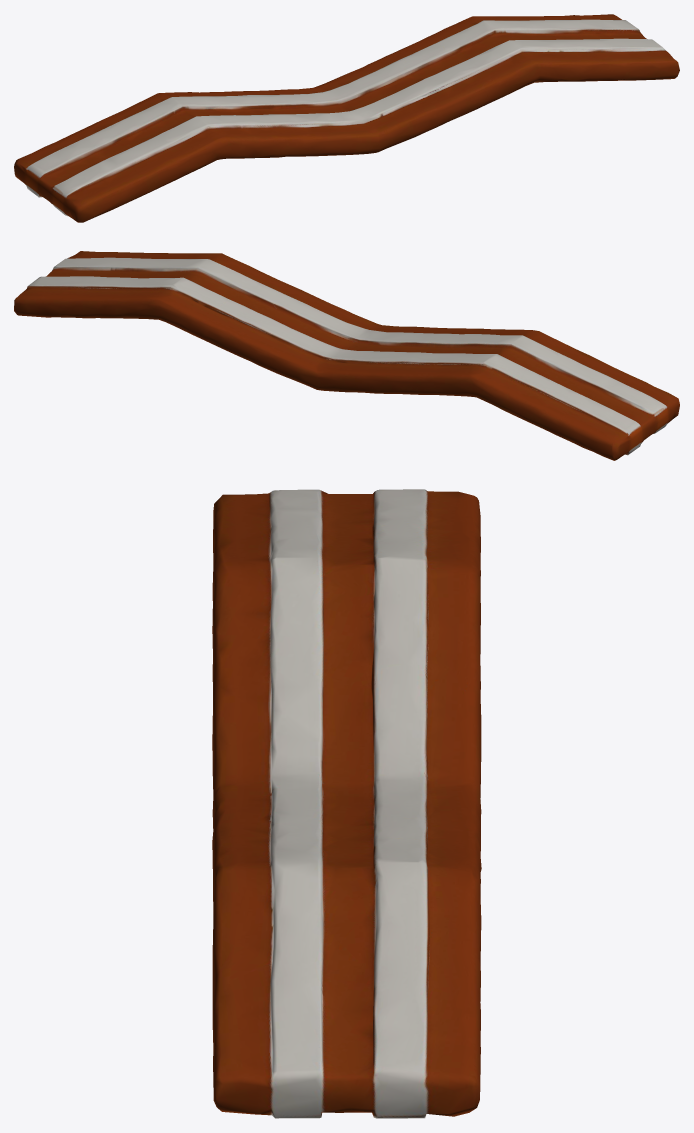
The model's file is tripo_convert_ca84d018-5b2b-4027-925b-311a98d80d57.fbx.
3 renders of one model, top to bottom at view 1: azimuth 30°, elevation 25°; view 2: azimuth 150°, elevation 25°; view 3: azimuth 270°, elevation 25°, orthographic. The views are drawn at different scales.
Parts seen in each view (by area): view 1: tripo_node_ca84d018; view 2: tripo_node_ca84d018; view 3: tripo_node_ca84d018.
Part boxes in pixels (x1,y1,x2,y2): tripo_node_ca84d018: (14, 14, 679, 222); tripo_node_ca84d018: (14, 251, 679, 460); tripo_node_ca84d018: (212, 489, 481, 1118).
Bounding box in the file's own units: 1 × 0.095 × 0.1932.
1 material, 1 textured.
